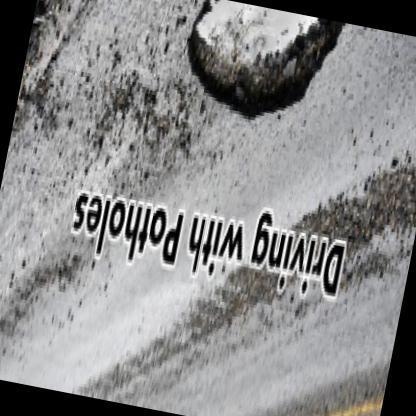pothole: (183, 0, 360, 121)
